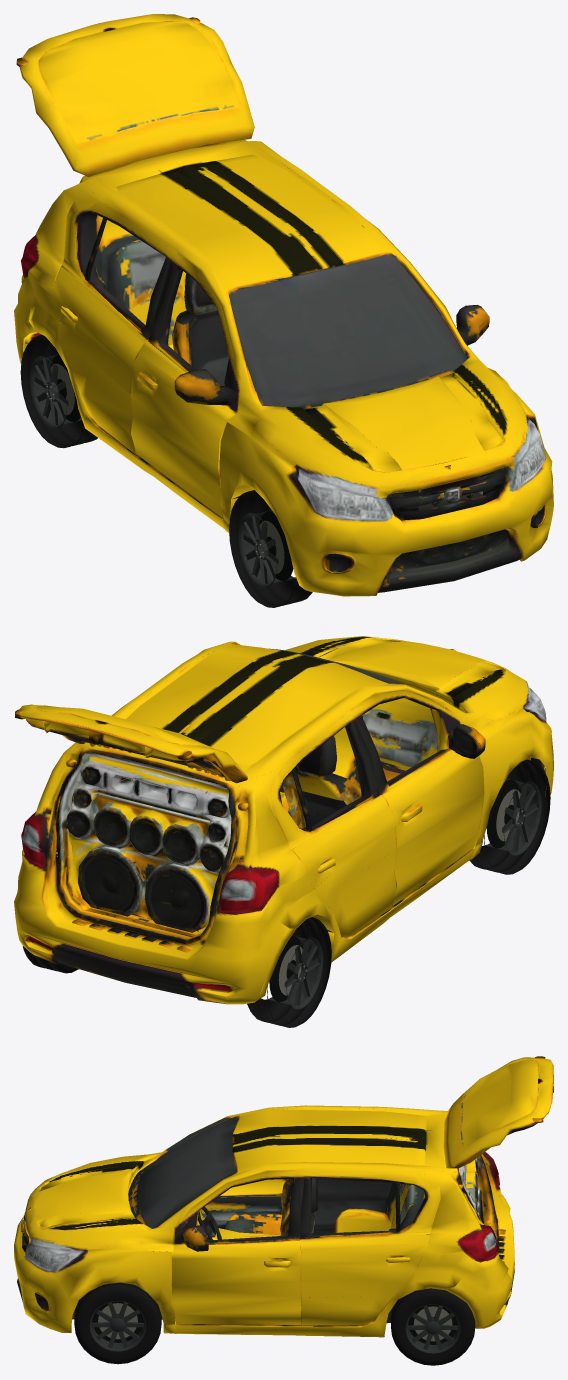
File: som-carro-2.glb
The picture shows the model from 3 angles, top to bottom: view 1: azimuth 30°, elevation 25°; view 2: azimuth 150°, elevation 25°; view 3: azimuth 270°, elevation 25°; orthographic projection. The views are drawn at different scales.
Parts seen in each view (by area): view 1: Som_carro, Tyre_Front_L, Tyre_Rear_L; view 2: Som_carro, Tyre_Front_L, Tyre_Rear_L, Tyre_Rear_R; view 3: Som_carro, Tyre_Front_R, Tyre_Rear_R.
Part boxes in pixels (x1,y1,x2,y2): Som_carro: (14,14,553,596); Tyre_Front_L: (229,490,312,607); Tyre_Rear_L: (20,335,97,448); Som_carro: (14,636,553,1004); Tyre_Front_L: (470,759,550,874); Tyre_Rear_L: (247,917,331,1027); Tyre_Rear_R: (23,857,78,973); Som_carro: (14,1056,553,1337); Tyre_Front_R: (74,1282,161,1364); Tyre_Rear_R: (391,1288,475,1365).
Size of the model in its own units: 1.92 by 1.97 by 4.
1 material, 1 textured.
